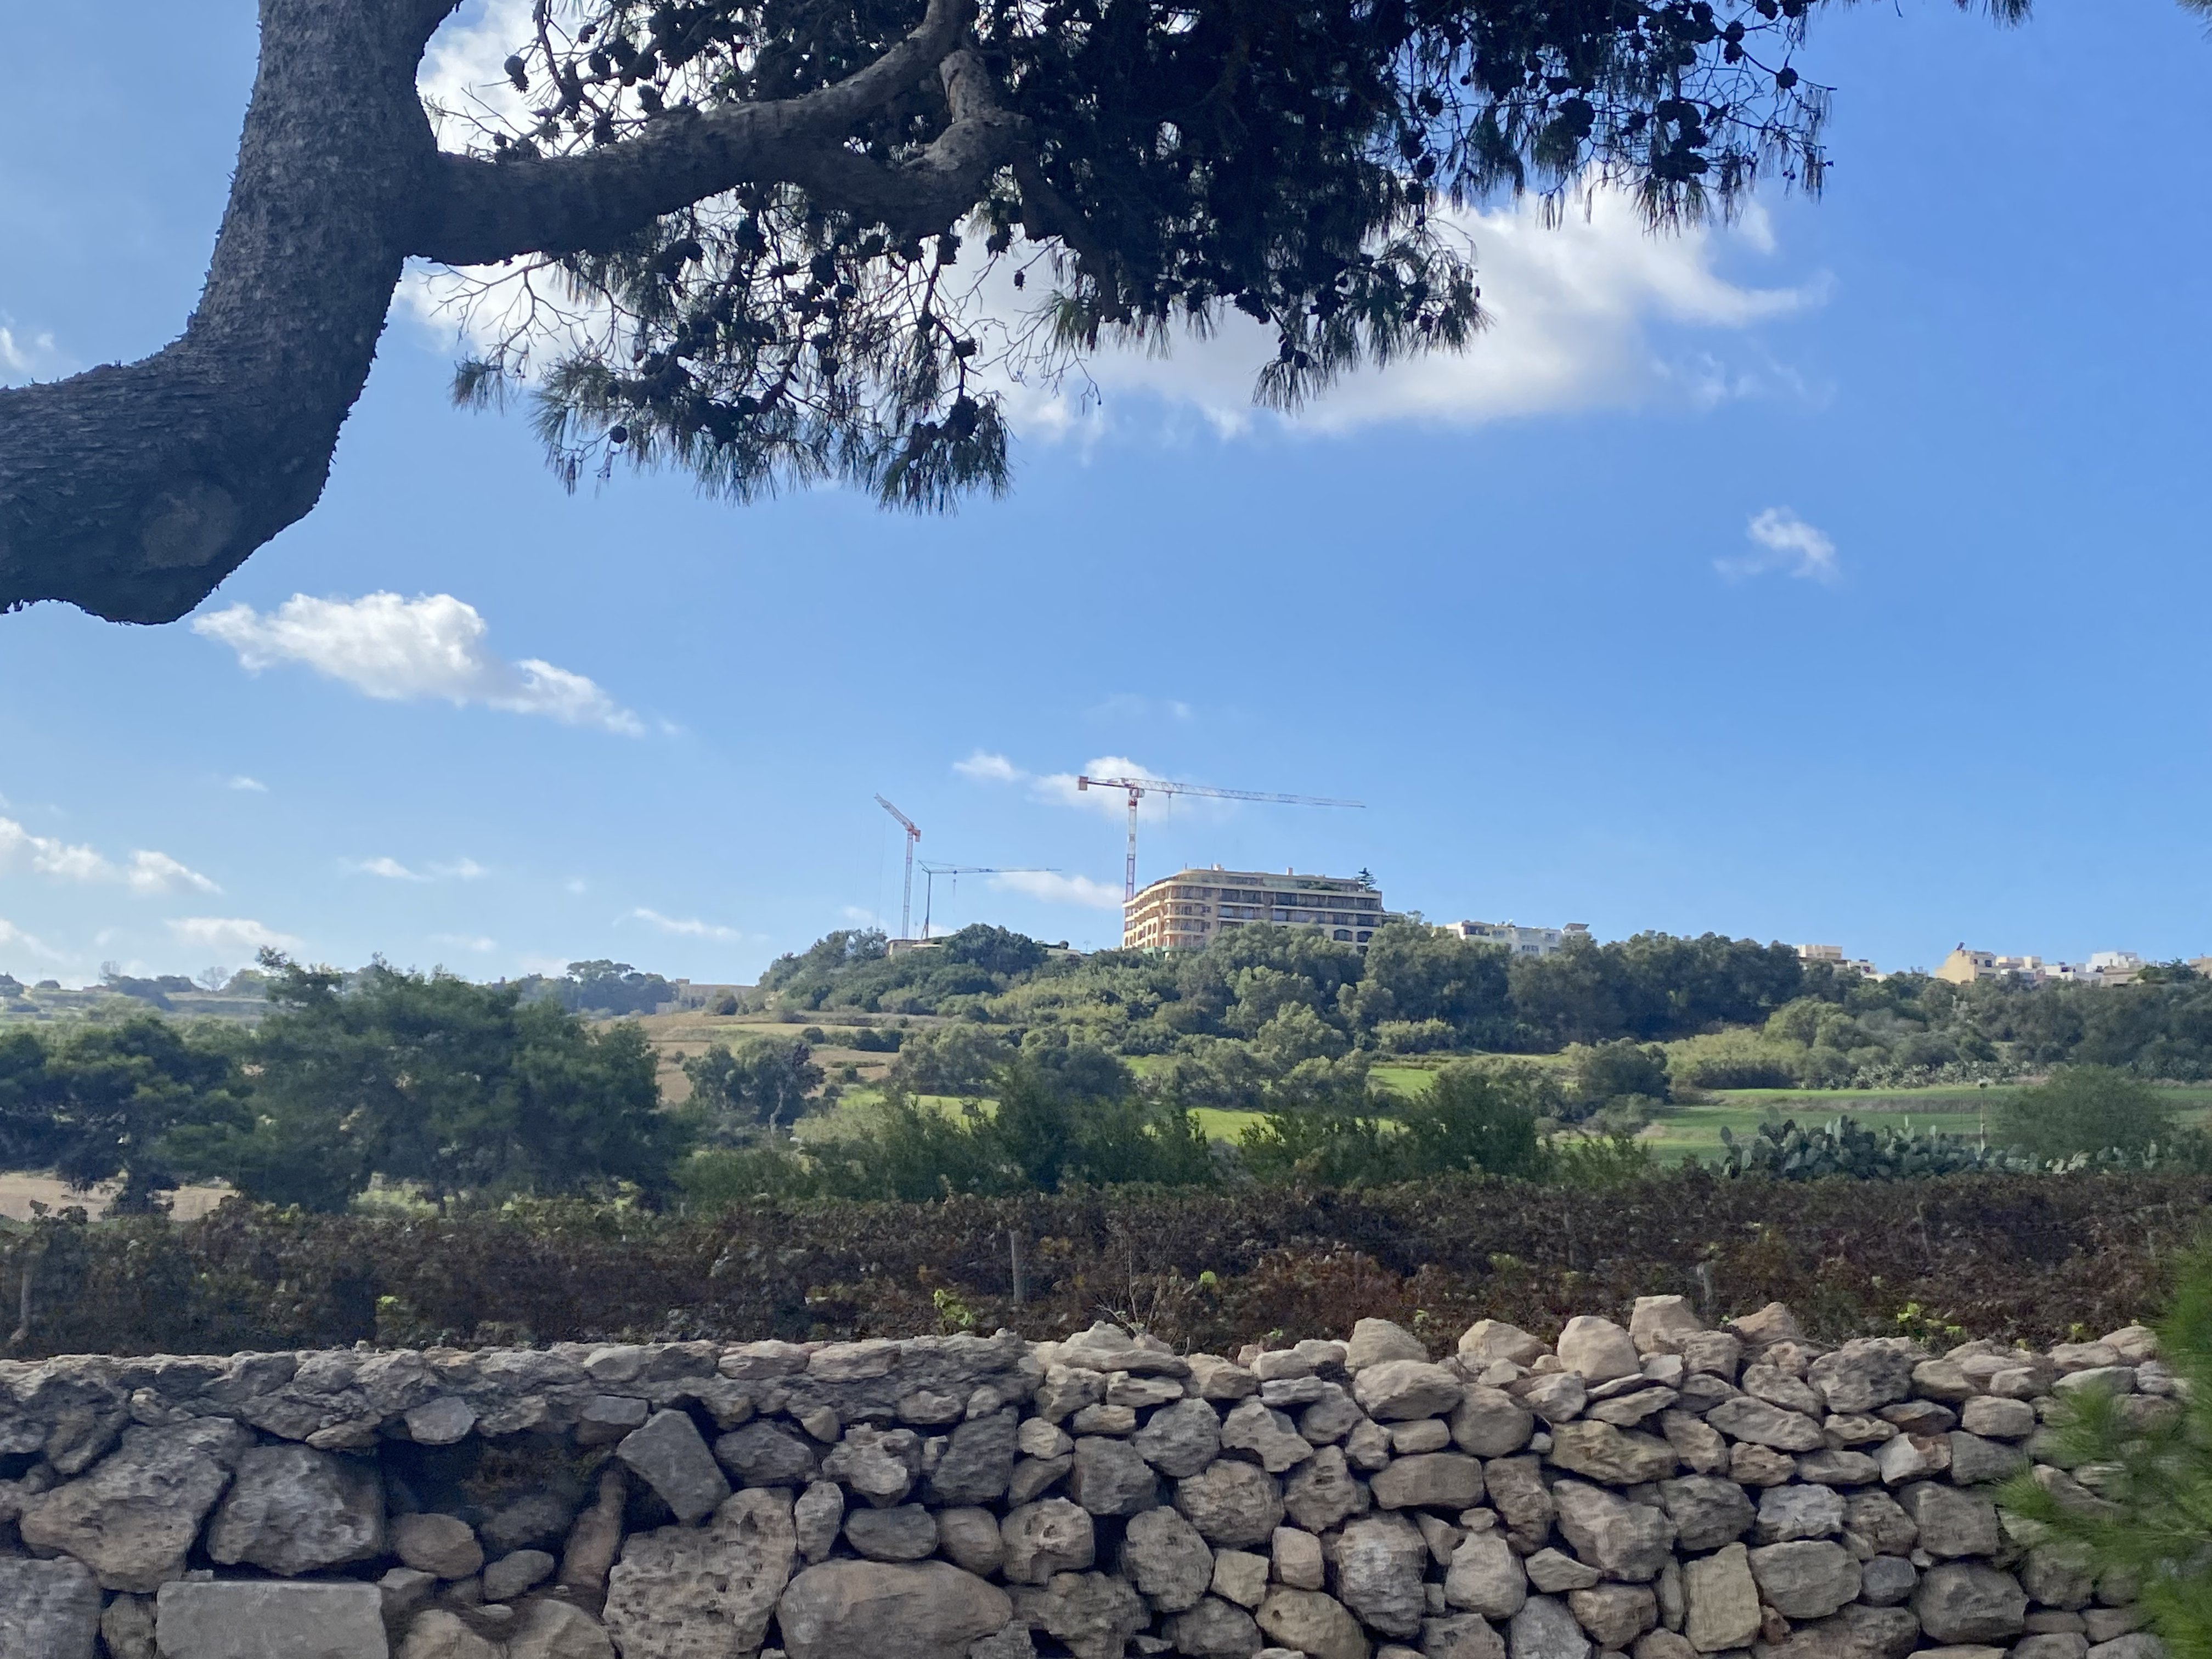crane: (1069, 753, 1386, 842), (879, 784, 964, 908)
